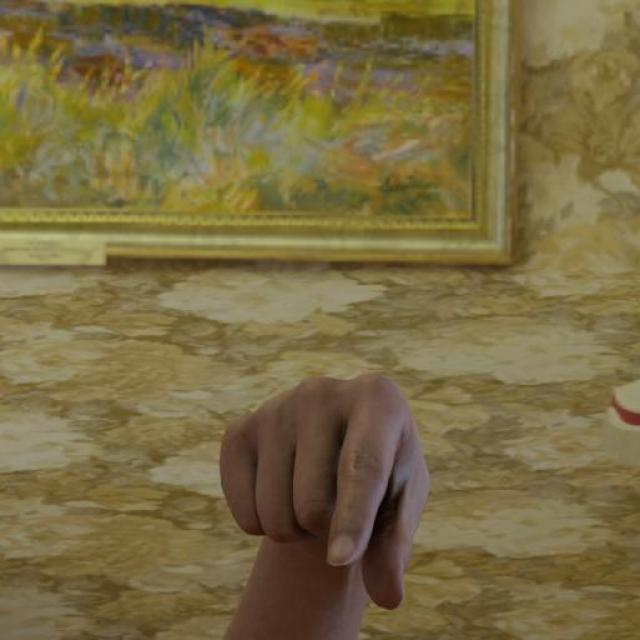Q: (210, 362, 439, 626)
